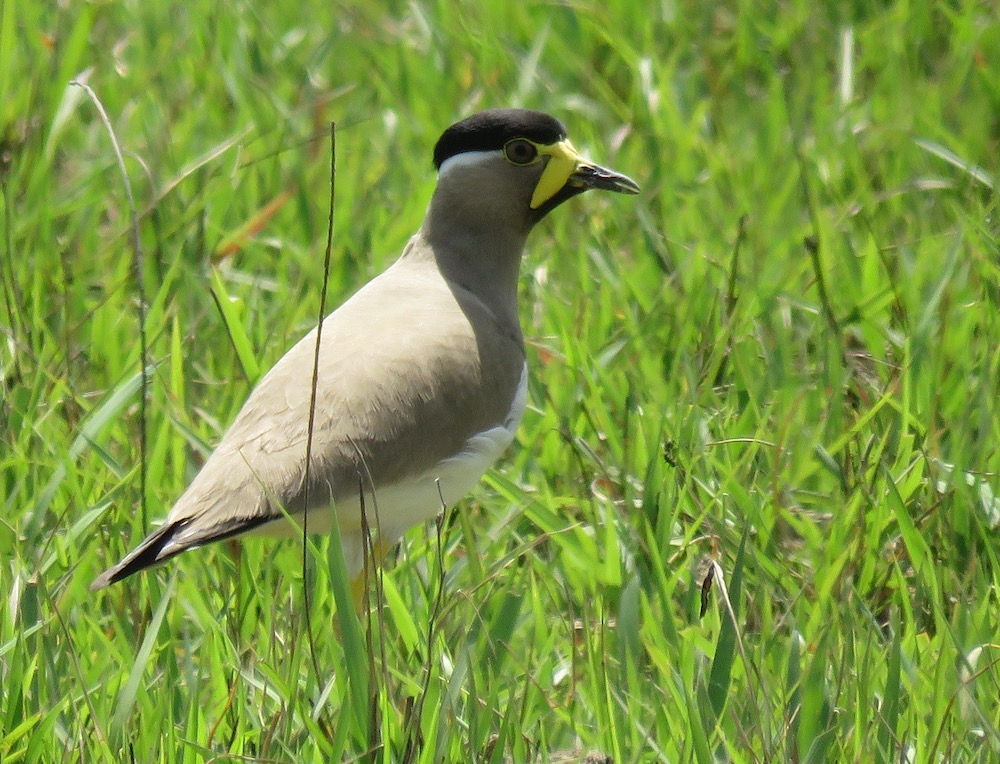bird: (93, 94, 646, 711)
